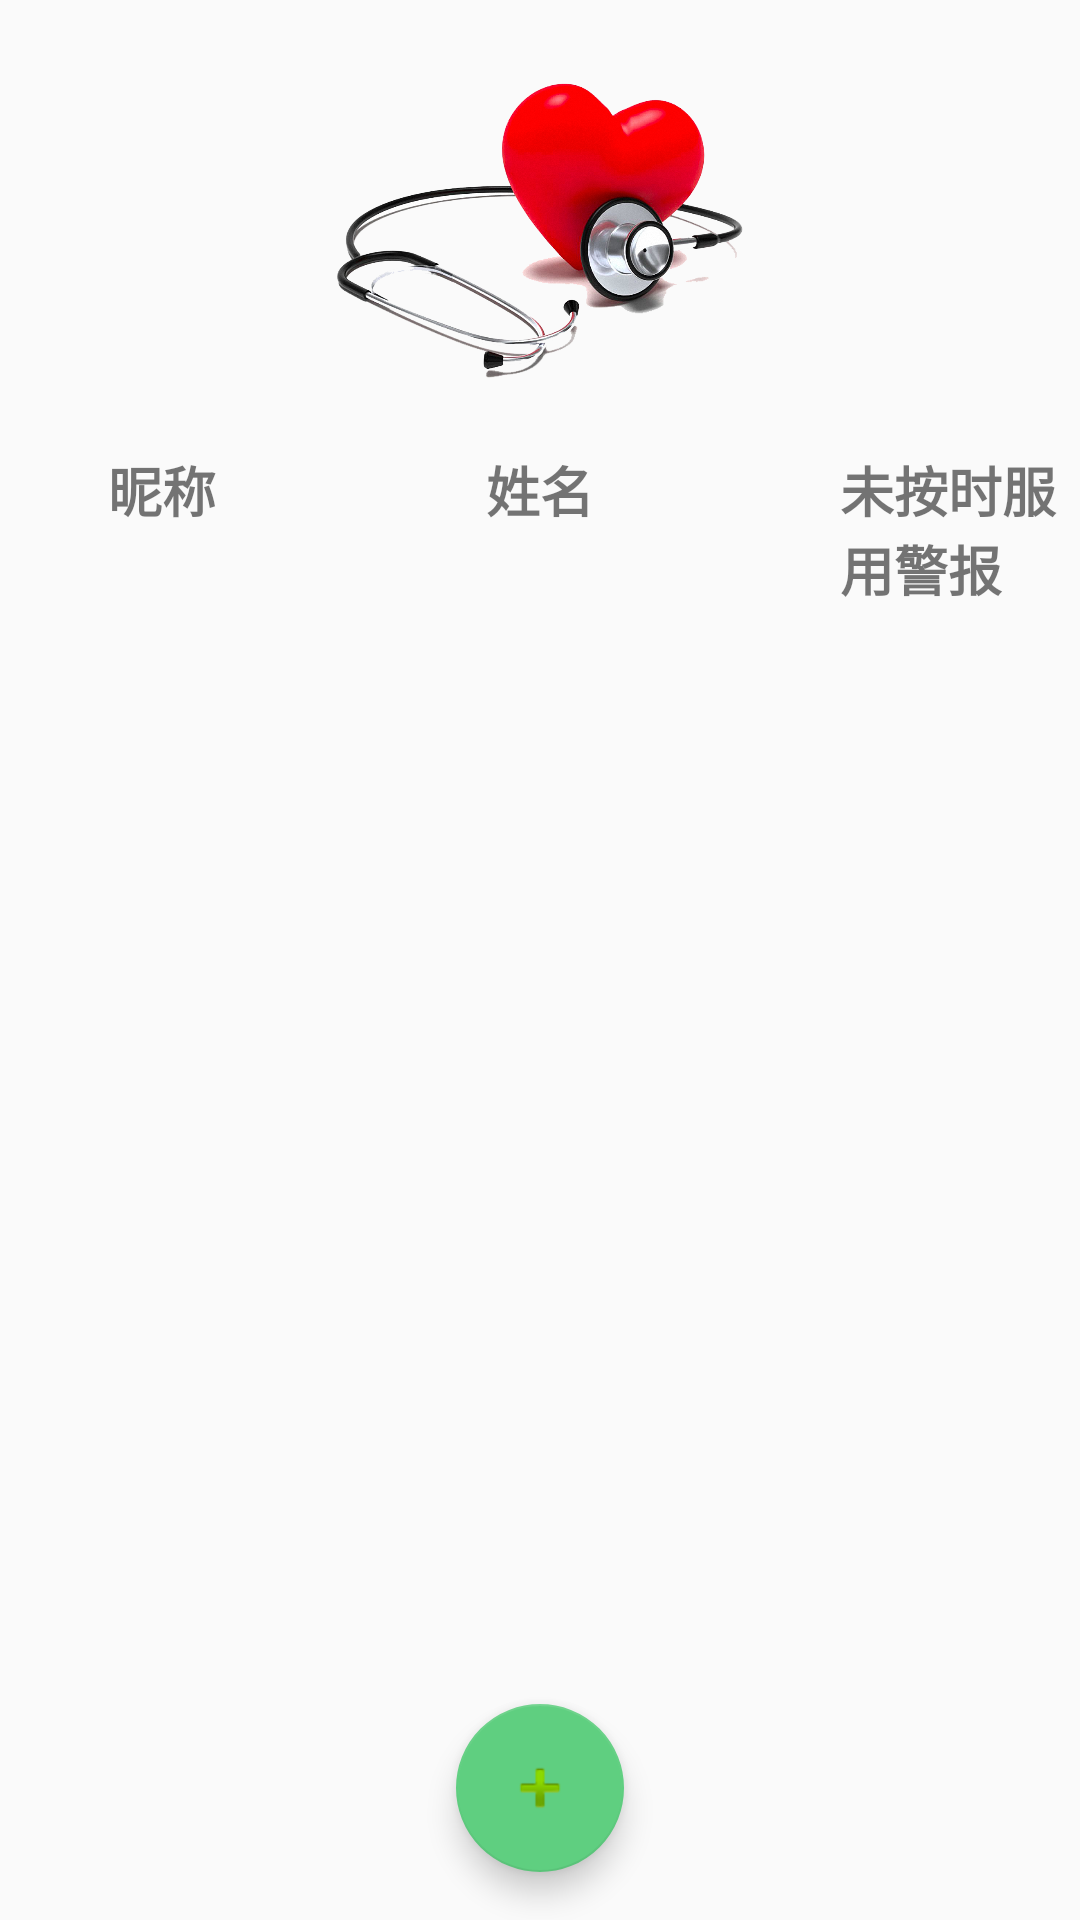

Icons on this 1080x1920 Android screen, each with its box as (x1, y1, x2, y2):
add: (456, 1704, 624, 1872)
